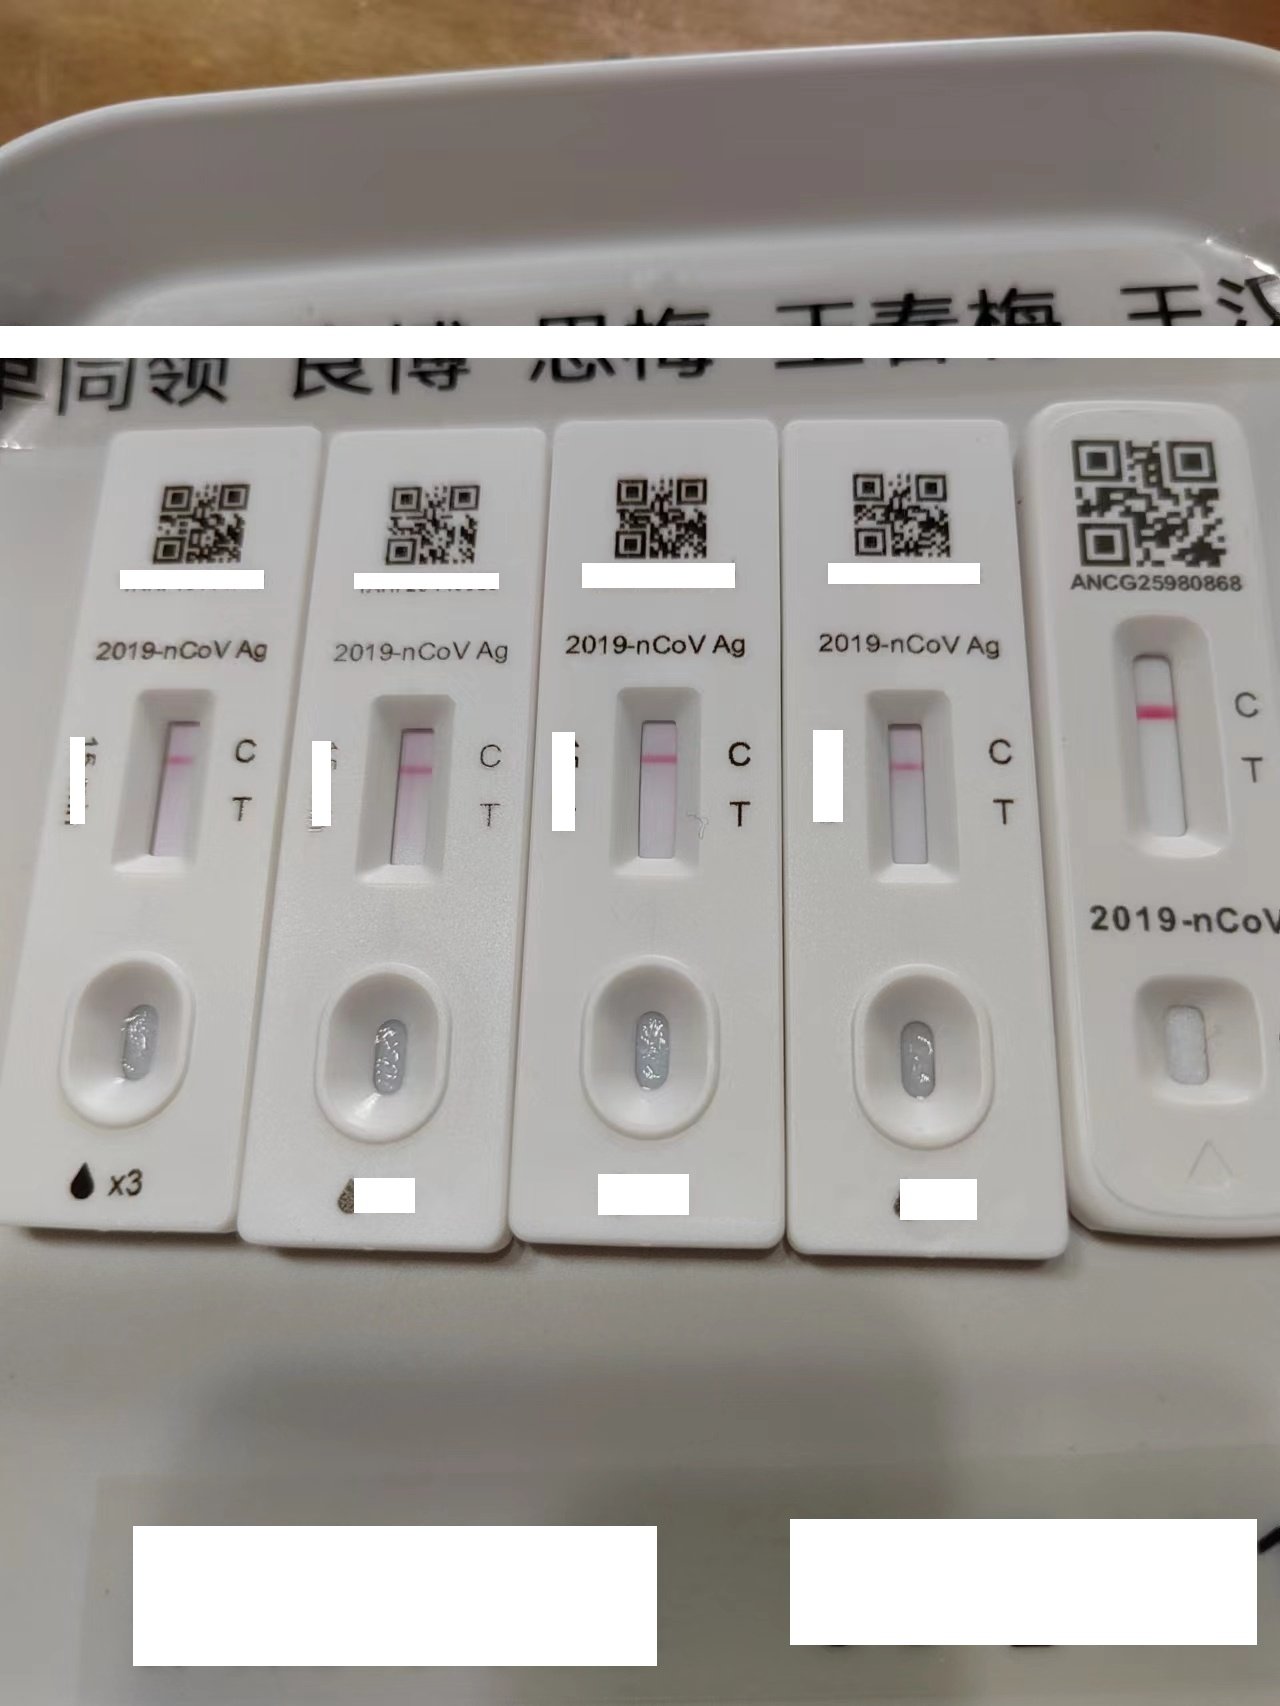negative: (1113, 618, 1230, 863), (358, 692, 453, 885), (867, 686, 960, 881), (117, 691, 216, 872), (616, 690, 701, 877)
